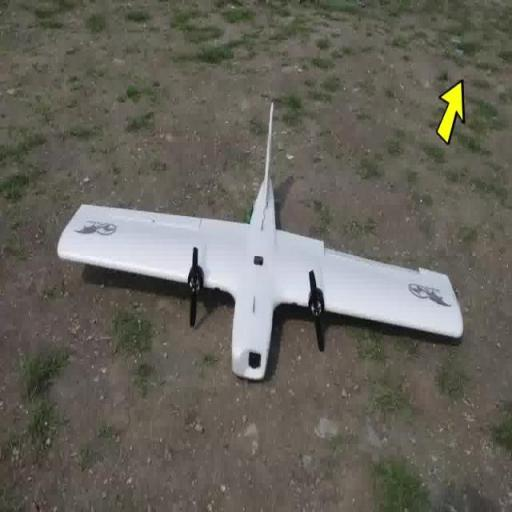uav: (54, 100, 468, 386)
